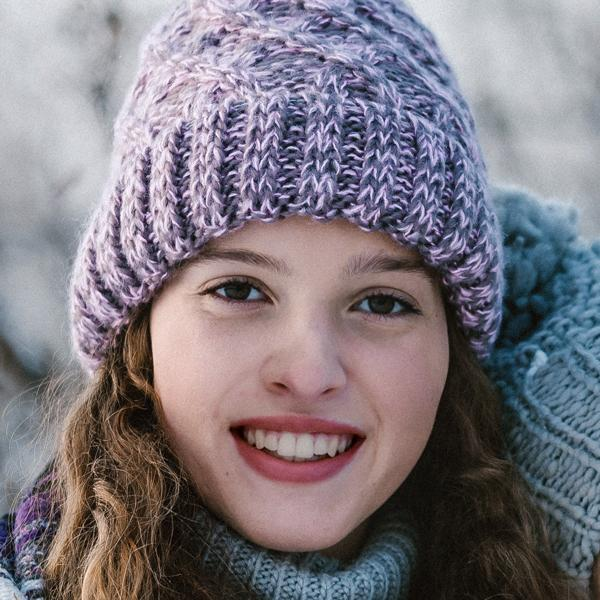Eyes: (341, 279, 429, 338), (189, 268, 281, 316)
